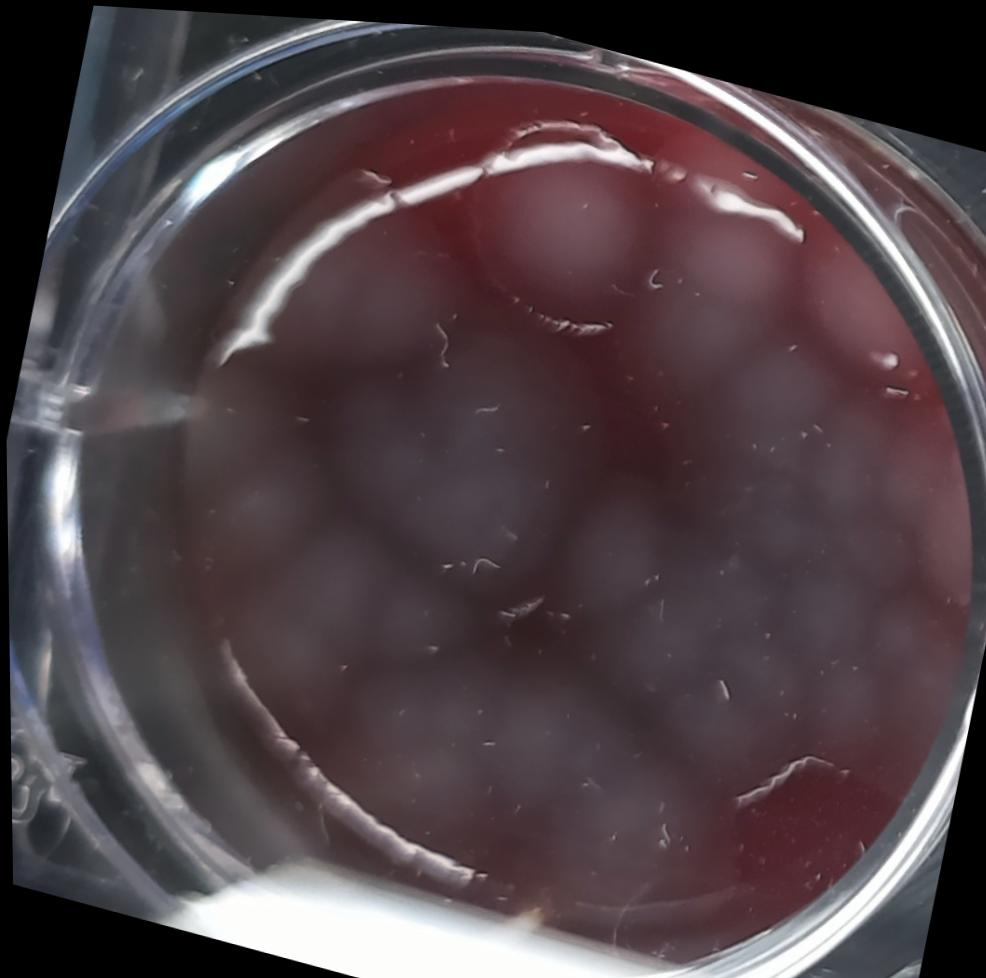valgino: (296, 289, 604, 585), (213, 147, 486, 410), (471, 687, 730, 943), (432, 82, 669, 353), (623, 163, 818, 414), (297, 636, 516, 852), (149, 348, 341, 575), (213, 494, 401, 724), (444, 616, 608, 827), (792, 214, 957, 391), (628, 651, 797, 807), (537, 459, 682, 631), (585, 574, 723, 713), (765, 633, 897, 775), (347, 545, 466, 678), (809, 485, 929, 603), (756, 538, 869, 663), (225, 759, 226, 760)
